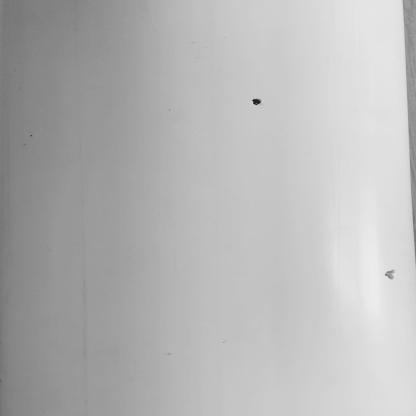kongdong: (374, 243, 399, 282), (249, 85, 279, 117)
